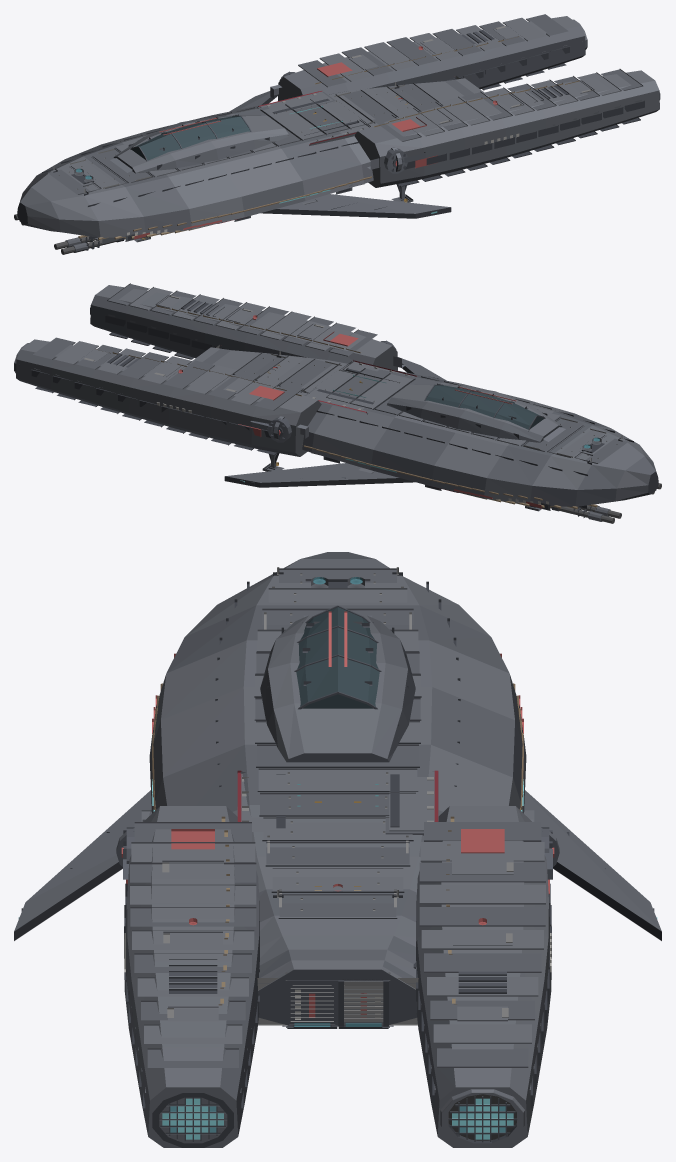
The model's file is pearce_f4.glb.
3 renders of one model, top to bottom at view 1: azimuth 30°, elevation 25°; view 2: azimuth 150°, elevation 25°; view 3: azimuth 270°, elevation 25°, orthographic. The views are drawn at different scales.
Parts seen in each view (by area): view 1: center_hull, boom_r, boom_l, wing_r, canopy, greebles, bay_lid_l, engine_r, gun_r, bay_lid_r; view 2: center_hull, boom_l, boom_r, wing_l, canopy, greebles, bay_lid_l, gun_l, engine_l, bay_lid_r, wing_r; view 3: center_hull, boom_l, boom_r, canopy, wing_r, wing_l, thrusters, bay_lid_l, bay_door_l, greebles, bay_lid_r, bay_door_r.
Boxes of the visible parts, x1,y1,x2,y2 form: center_hull: (17,76,487,239); boom_r: (354,69,660,187); boom_l: (278,14,587,100); wing_r: (261,194,451,218); canopy: (110,115,251,172); greebles: (53,36,579,241); bay_lid_l: (257,91,335,113); engine_r: (367,147,425,173); gun_r: (54,236,125,254); bay_lid_r: (304,119,370,145); center_hull: (188,345,658,508); boom_l: (14,337,321,456); boom_r: (90,283,397,370); wing_l: (224,463,414,487); canopy: (424,384,565,441); greebles: (96,305,622,510); bay_lid_l: (305,388,373,414); gun_l: (550,505,621,523); engine_l: (250,416,308,442); bay_lid_r: (340,360,416,382); wing_r: (398,357,446,380); center_hull: (149,552,526,1027); boom_l: (413,806,551,1147); boom_r: (124,806,259,1147); canopy: (294,605,381,709); wing_r: (14,790,151,940); wing_l: (524,790,661,940); thrusters: (162,1098,513,1139); bay_lid_l: (385,770,438,835); bay_door_l: (338,979,389,1028); greebles: (152,567,523,1005); bay_lid_r: (237,770,286,831); bay_door_r: (286,985,337,1028).
Size of the model in its own units: 57.9 by 9.37 by 28.2.
